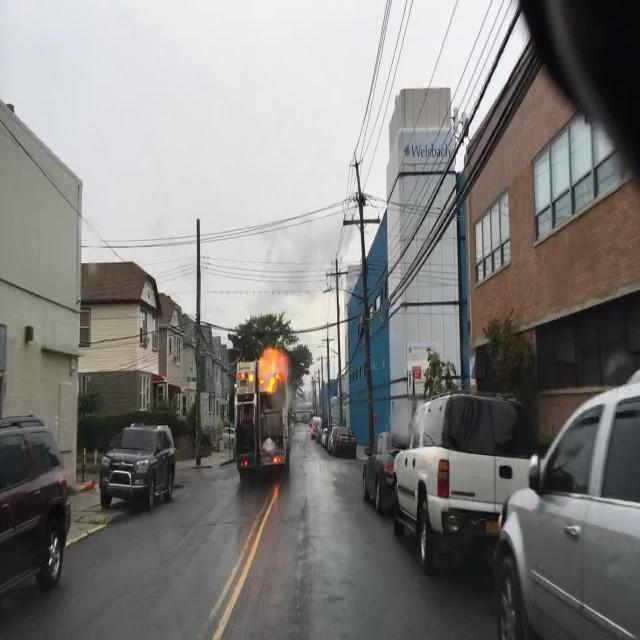normal: (490, 380, 639, 640), (0, 410, 73, 589), (98, 425, 178, 513)
